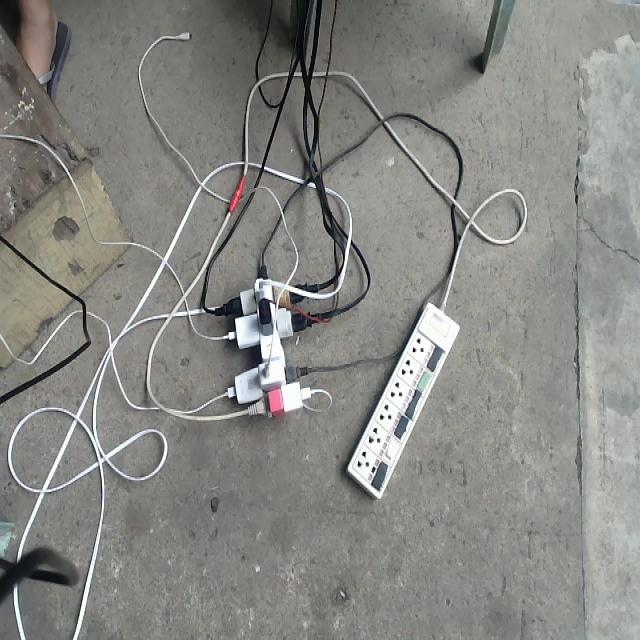-: (198, 252, 335, 421)
